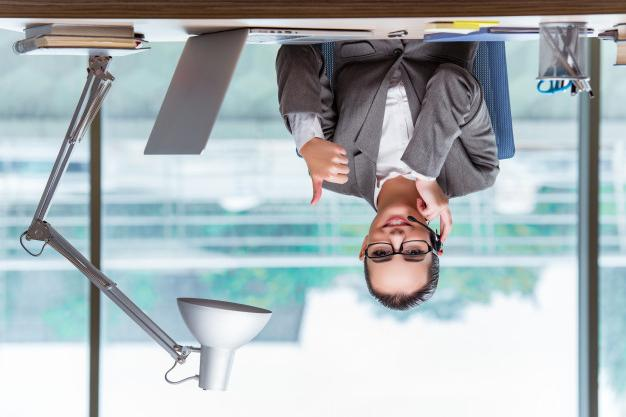thumbsdown: (311, 146, 350, 206)
